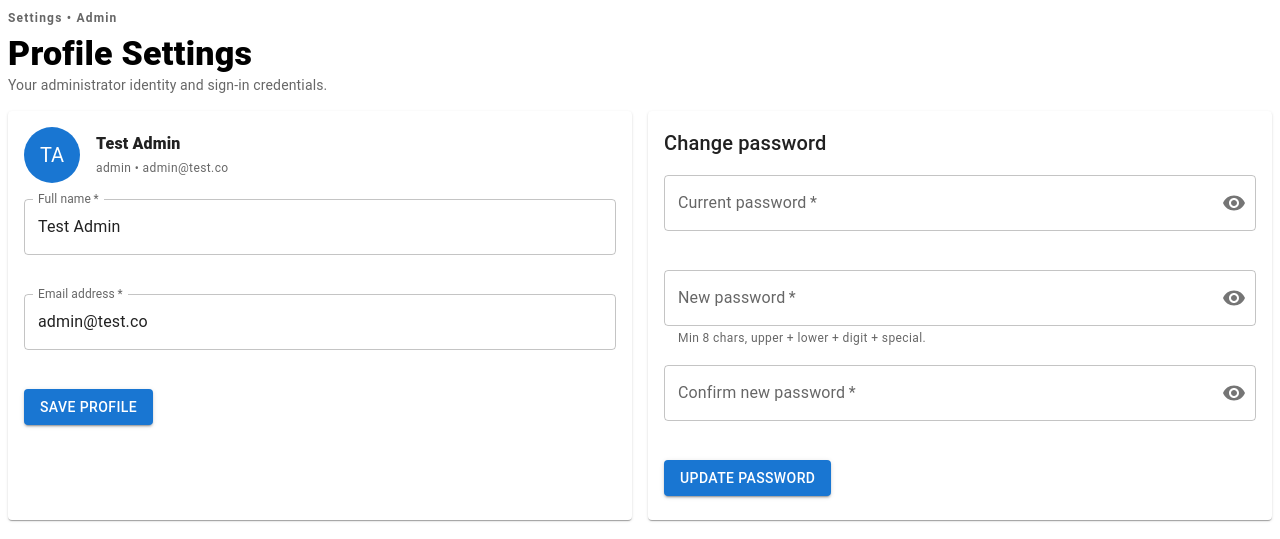
Test case: ProfileSettingsPage › requires matching passwords
Type "Old-password1!" into the password field labelled "Current password *" at x=935, y=203, box [664,175,1206,231]
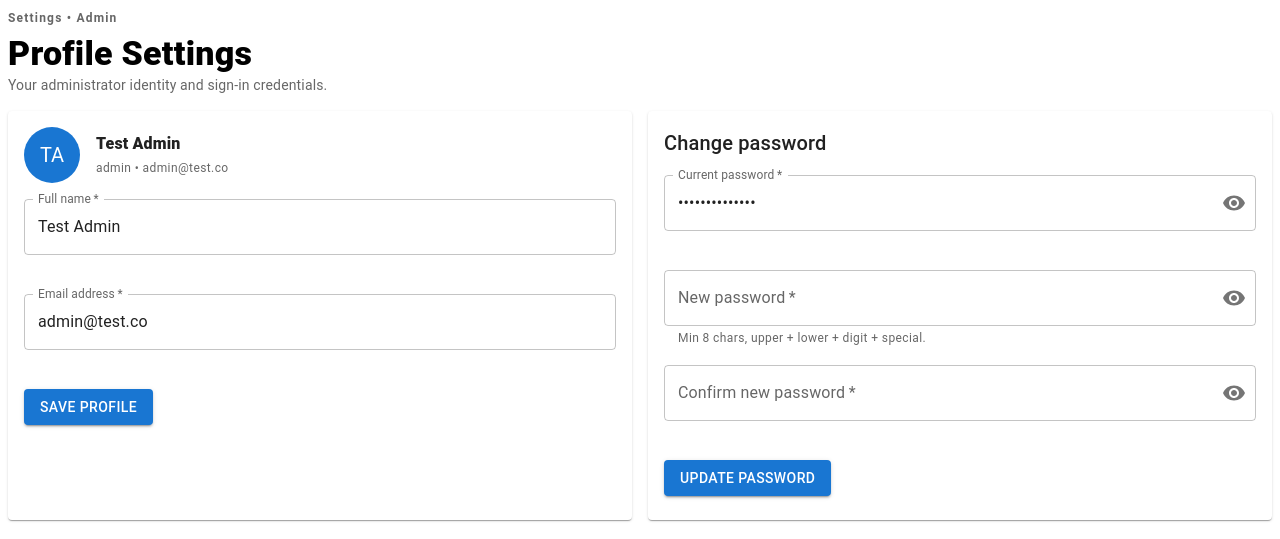
Type "New-password1!" into the password field labelled "New password *" at x=935, y=298, box [664,270,1206,326]
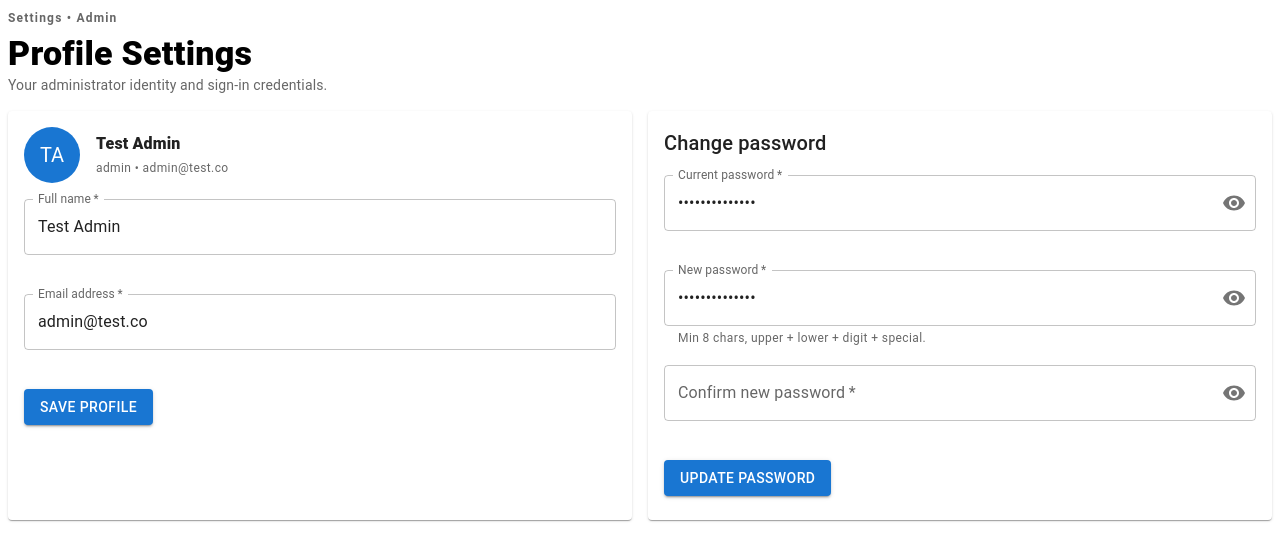
Type "Different1!" into the password field labelled "Confirm new password *" at x=935, y=393, box [664,365,1206,421]
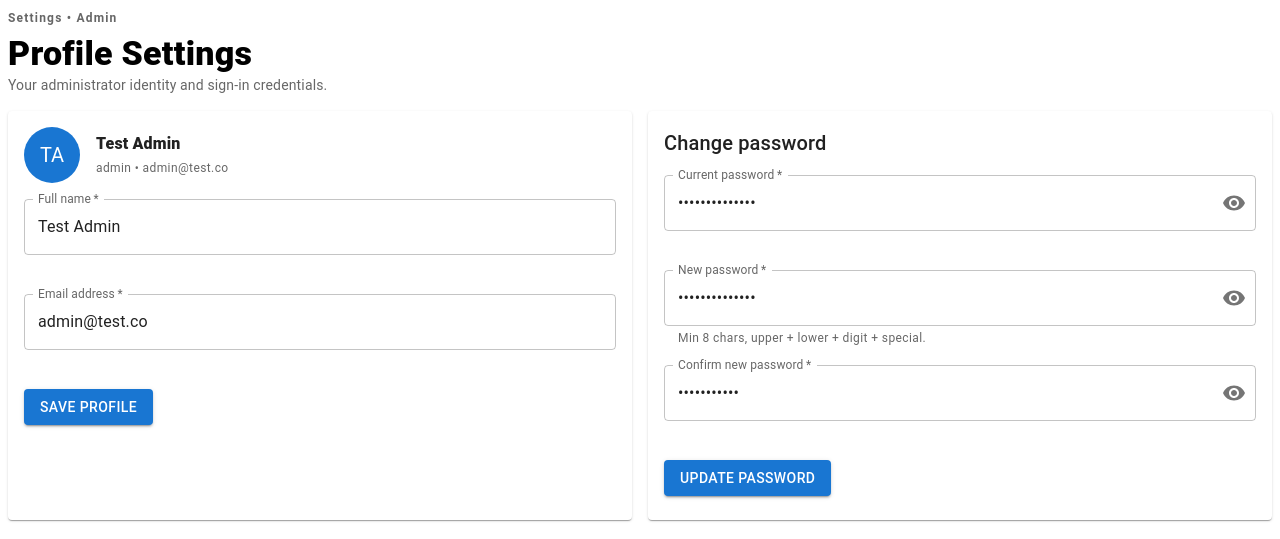
Click the button "Update password" at x=748, y=478, box [664,460,831,496]
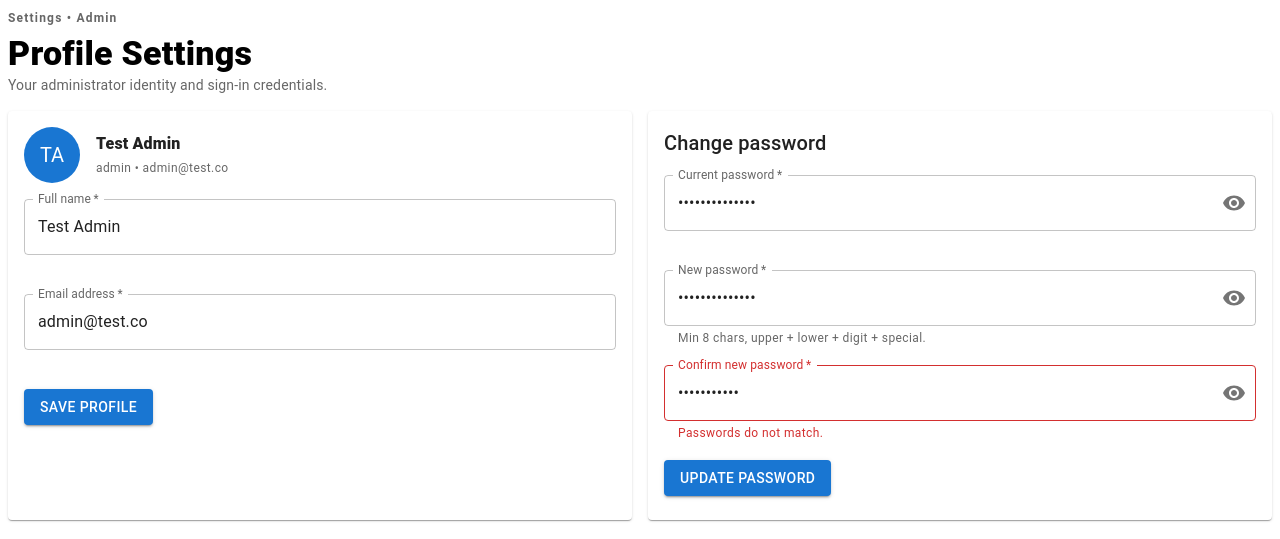
Result: the text "Passwords do not match." is shown at [678,426,823,440]
